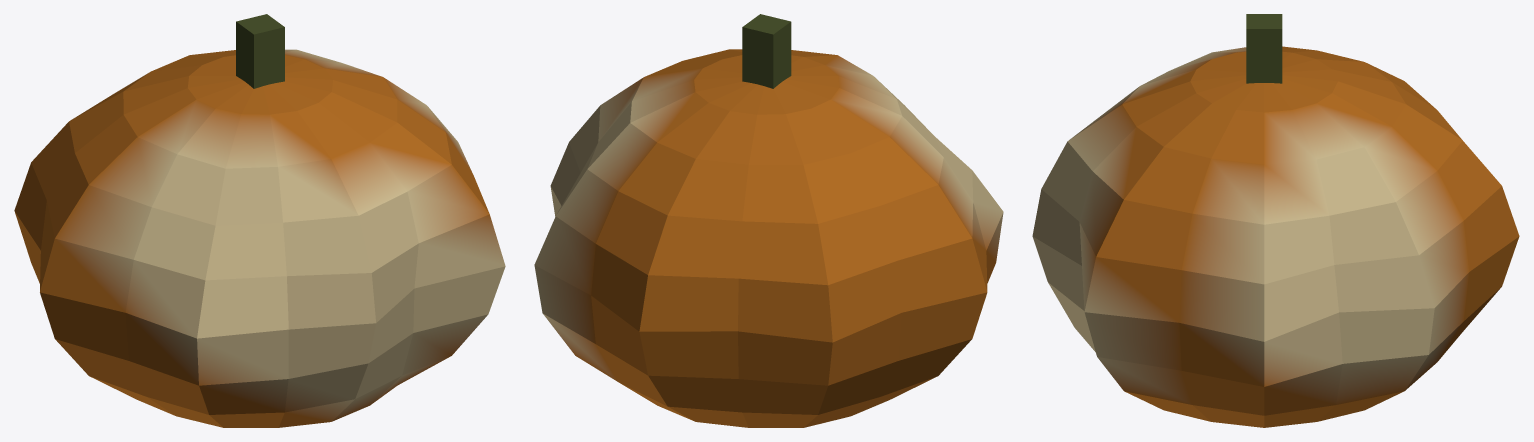
File: pumpkin_prize_large_gnawed.glb
3 renders of one model, left to right at view 1: azimuth 30°, elevation 25°; view 2: azimuth 150°, elevation 25°; view 3: azimuth 270°, elevation 25°, orthographic.
Visible parts, largest first — view 1: Pumpkin; view 2: Pumpkin; view 3: Pumpkin.
Part boxes in pixels (box(x1,y1,x2,y2)): Pumpkin: box(14, 14, 505, 427); Pumpkin: box(534, 14, 1003, 427); Pumpkin: box(1032, 14, 1519, 427).
Bounding box in the file's own units: 1.98 × 1.63 × 1.91.
